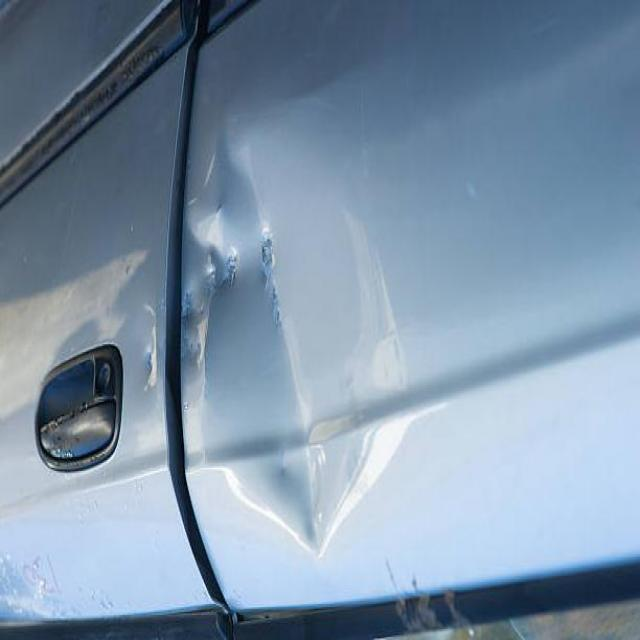dent: (188, 115, 420, 591)
